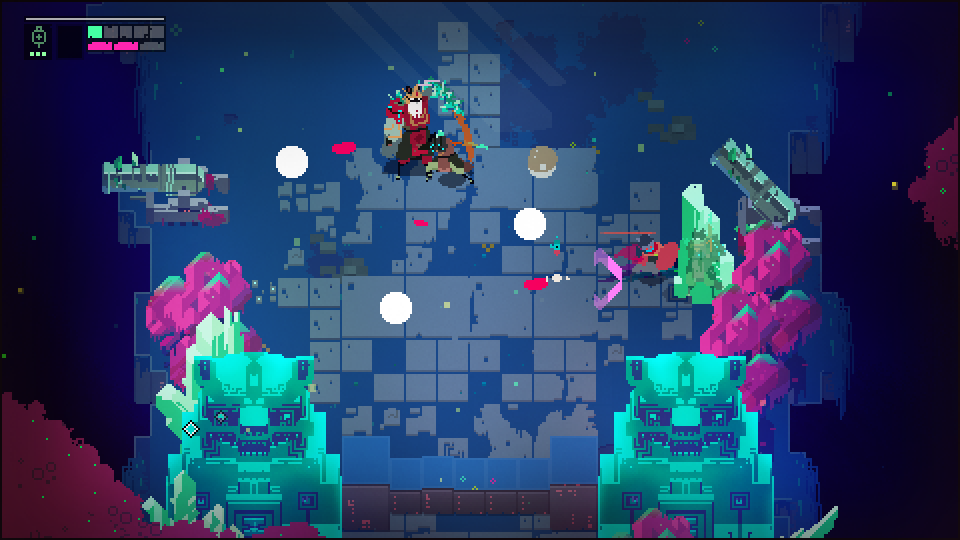hanged_man: (380, 72, 478, 174)
player: (620, 235, 679, 270)
